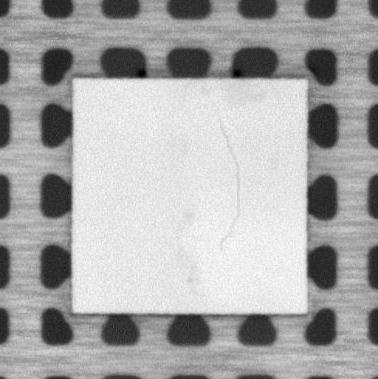DIE_CRACK: (217, 119, 243, 254)
